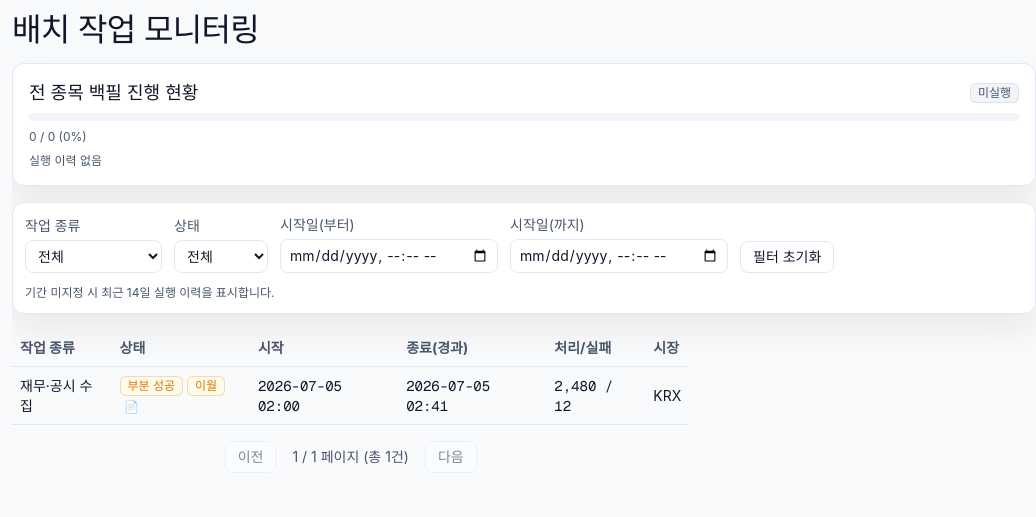
Test: AdminBatchesPage › 미존재 runId 상세 조회는 404 안내를 표시한다(E8)
The image size is (1036, 517).
Step 1. Click the text "부분 성공" → point(151, 386), box [120,376,183,396]
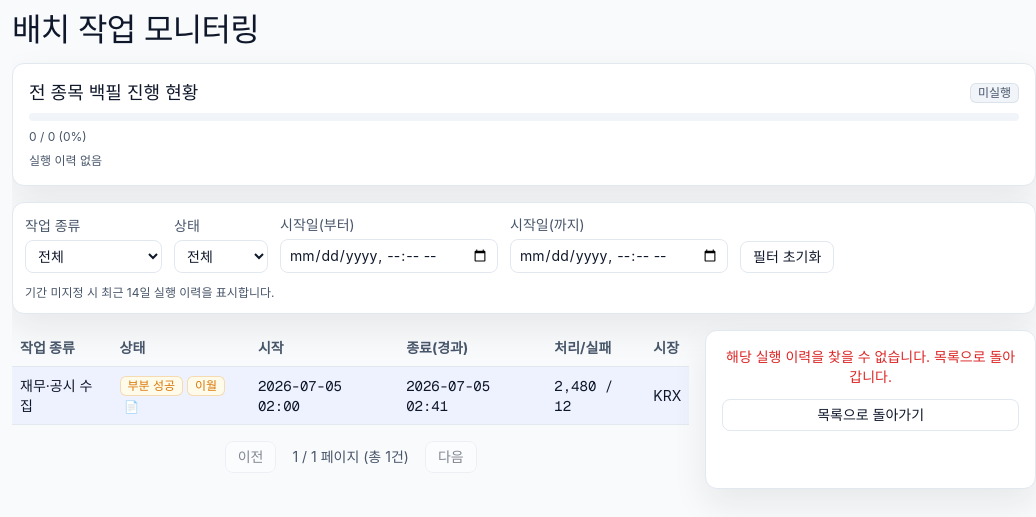
Now the text "해당 실행 이력을 찾을 수 없습니다. 목록으로 돌아갑니다." is shown, box [722,347,1019,387]
